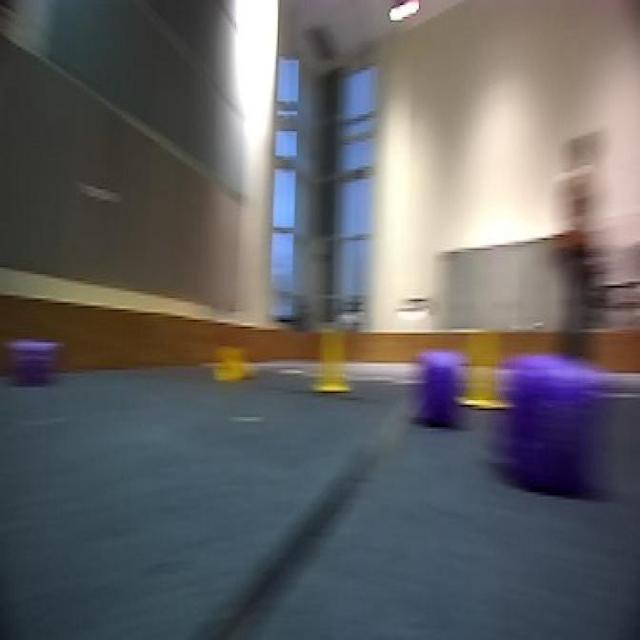frc_cone: (454, 324, 516, 411), (312, 322, 353, 398), (212, 337, 262, 392)
frc_cube: (506, 357, 595, 504), (421, 369, 462, 424), (10, 342, 50, 390)
